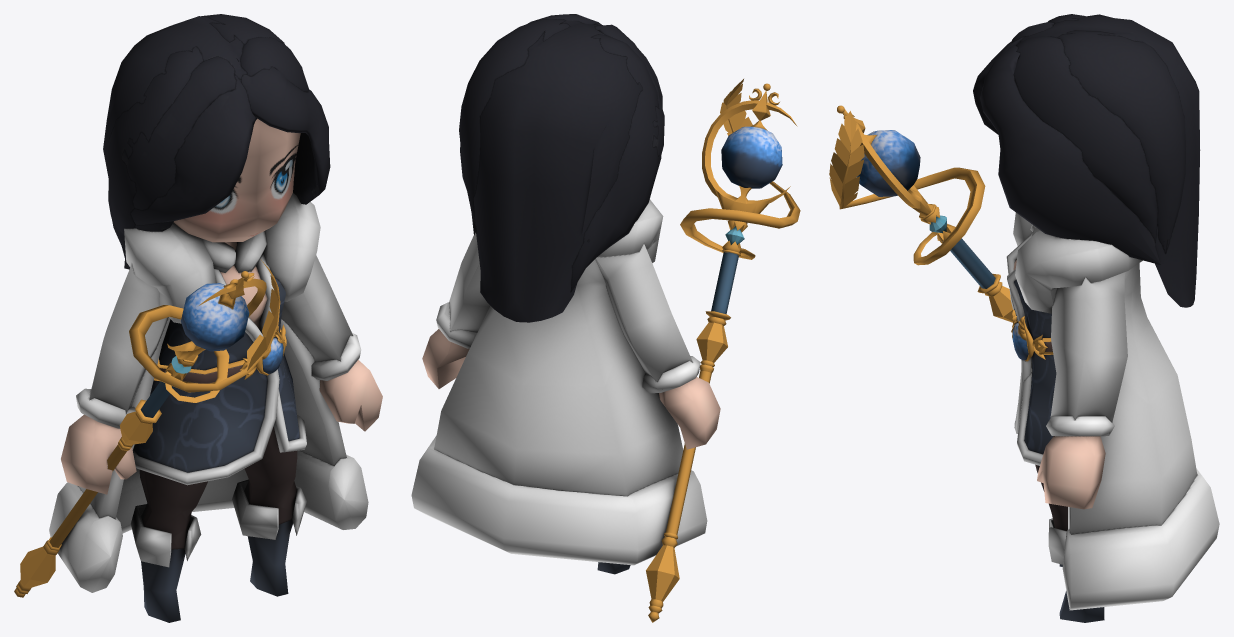
File: Untitled_Avatar.fbx
3 views of the same model, side by side, from view 1: azimuth 30°, elevation 25°; view 2: azimuth 150°, elevation 25°; view 3: azimuth 270°, elevation 25° (orthographic). The views are drawn at different scales.
Visible parts, largest first — view 1: Untitled_Avatar; view 2: Untitled_Avatar; view 3: Untitled_Avatar.
Part boxes in pixels (<box>): Untitled_Avatar: <box>14,14,382,622</box>; Untitled_Avatar: <box>411,14,800,622</box>; Untitled_Avatar: <box>829,14,1219,622</box>.
Size of the model in its own units: 104 by 180 by 113.
Materials: 12 (11 with a texture image).
